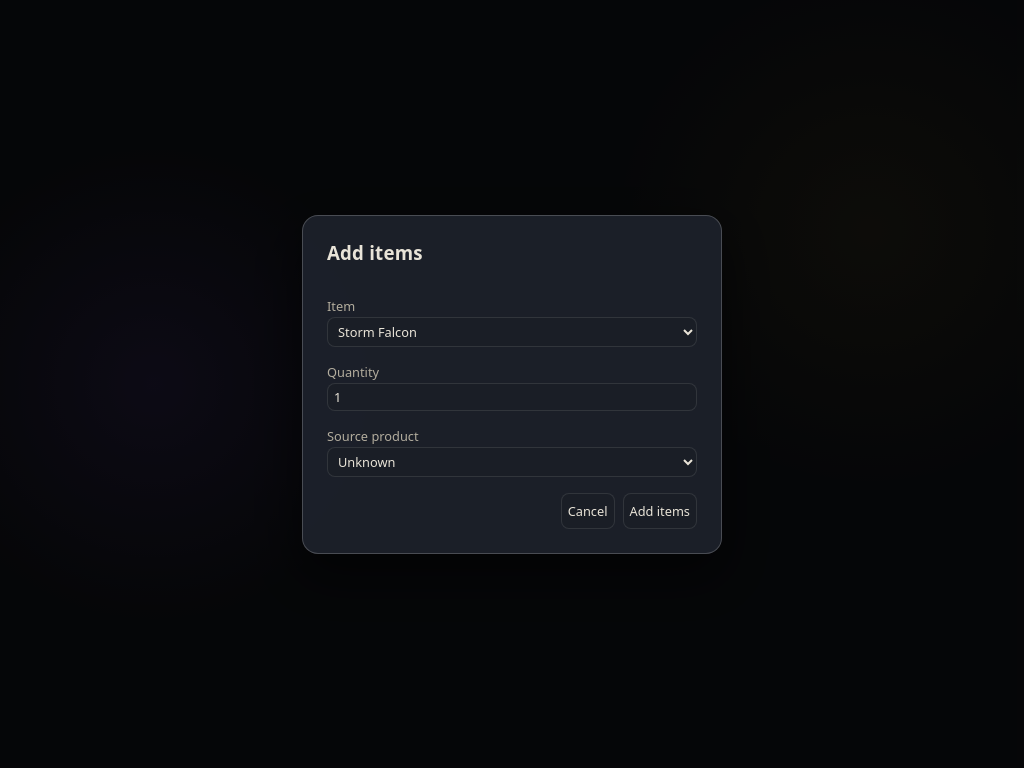
Test case: AddItemsDialog › shows the error and stays open when adding fails
The width and height of the screenshot is (1024, 768).
Click the button "Add items": [660, 510] box [622, 492, 697, 528]
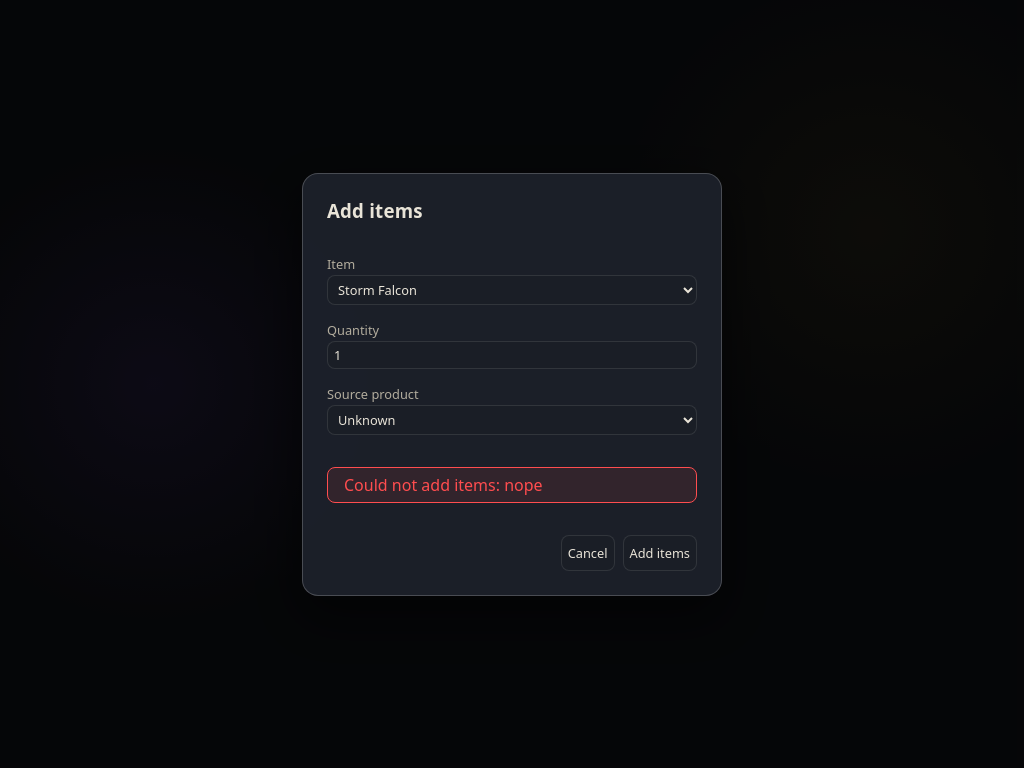
Now the message reads "Could not add items: nope", box [344, 474, 543, 496]
